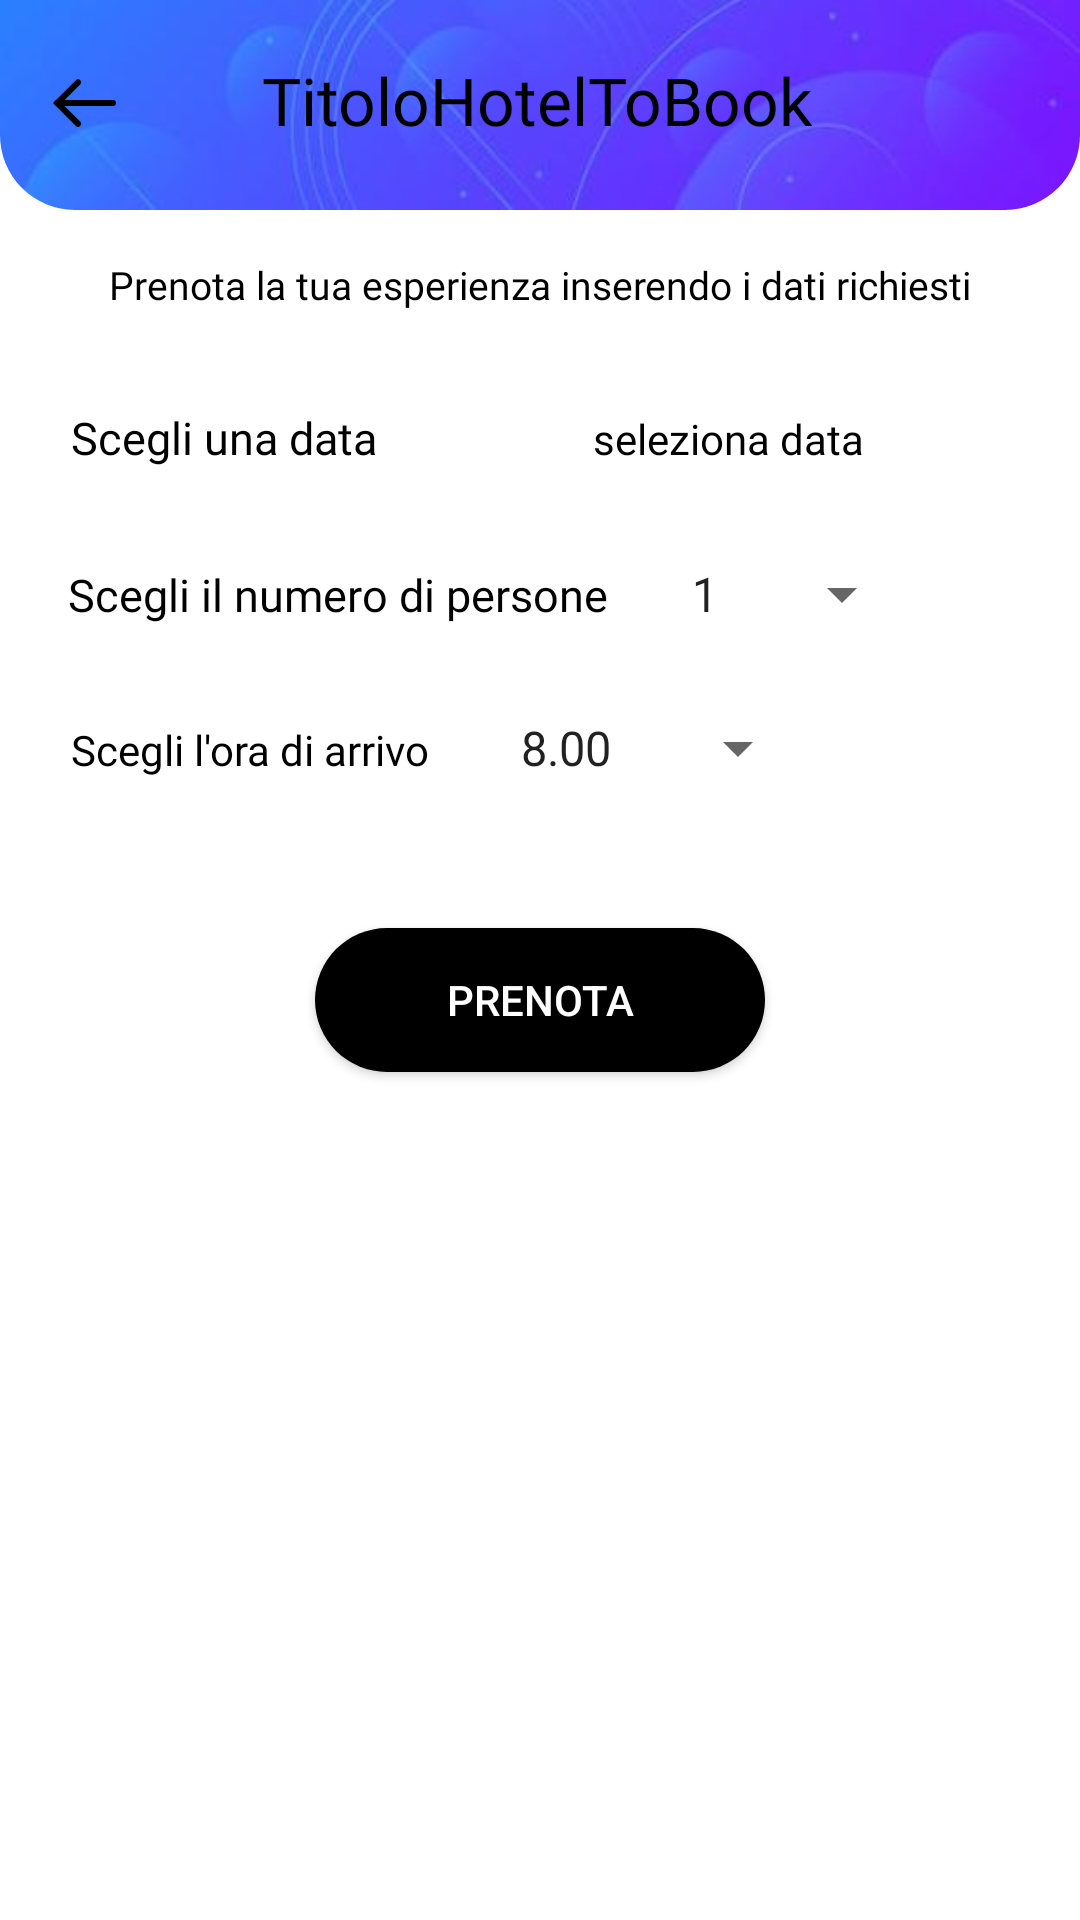

Point at icon controls on the screen. Image size 1080w x 1920h, points as (x,y).
arrow back: (84,103)
